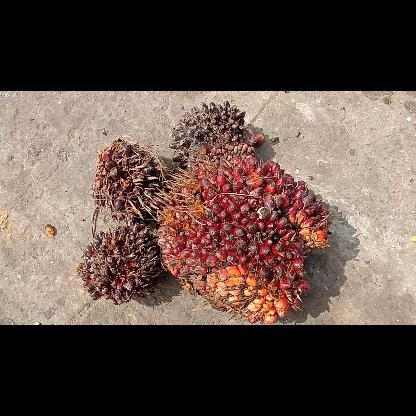TBS abnormal: (75, 220, 163, 306), (90, 136, 170, 226), (167, 101, 266, 171)
TBS masak: (155, 154, 333, 324)
